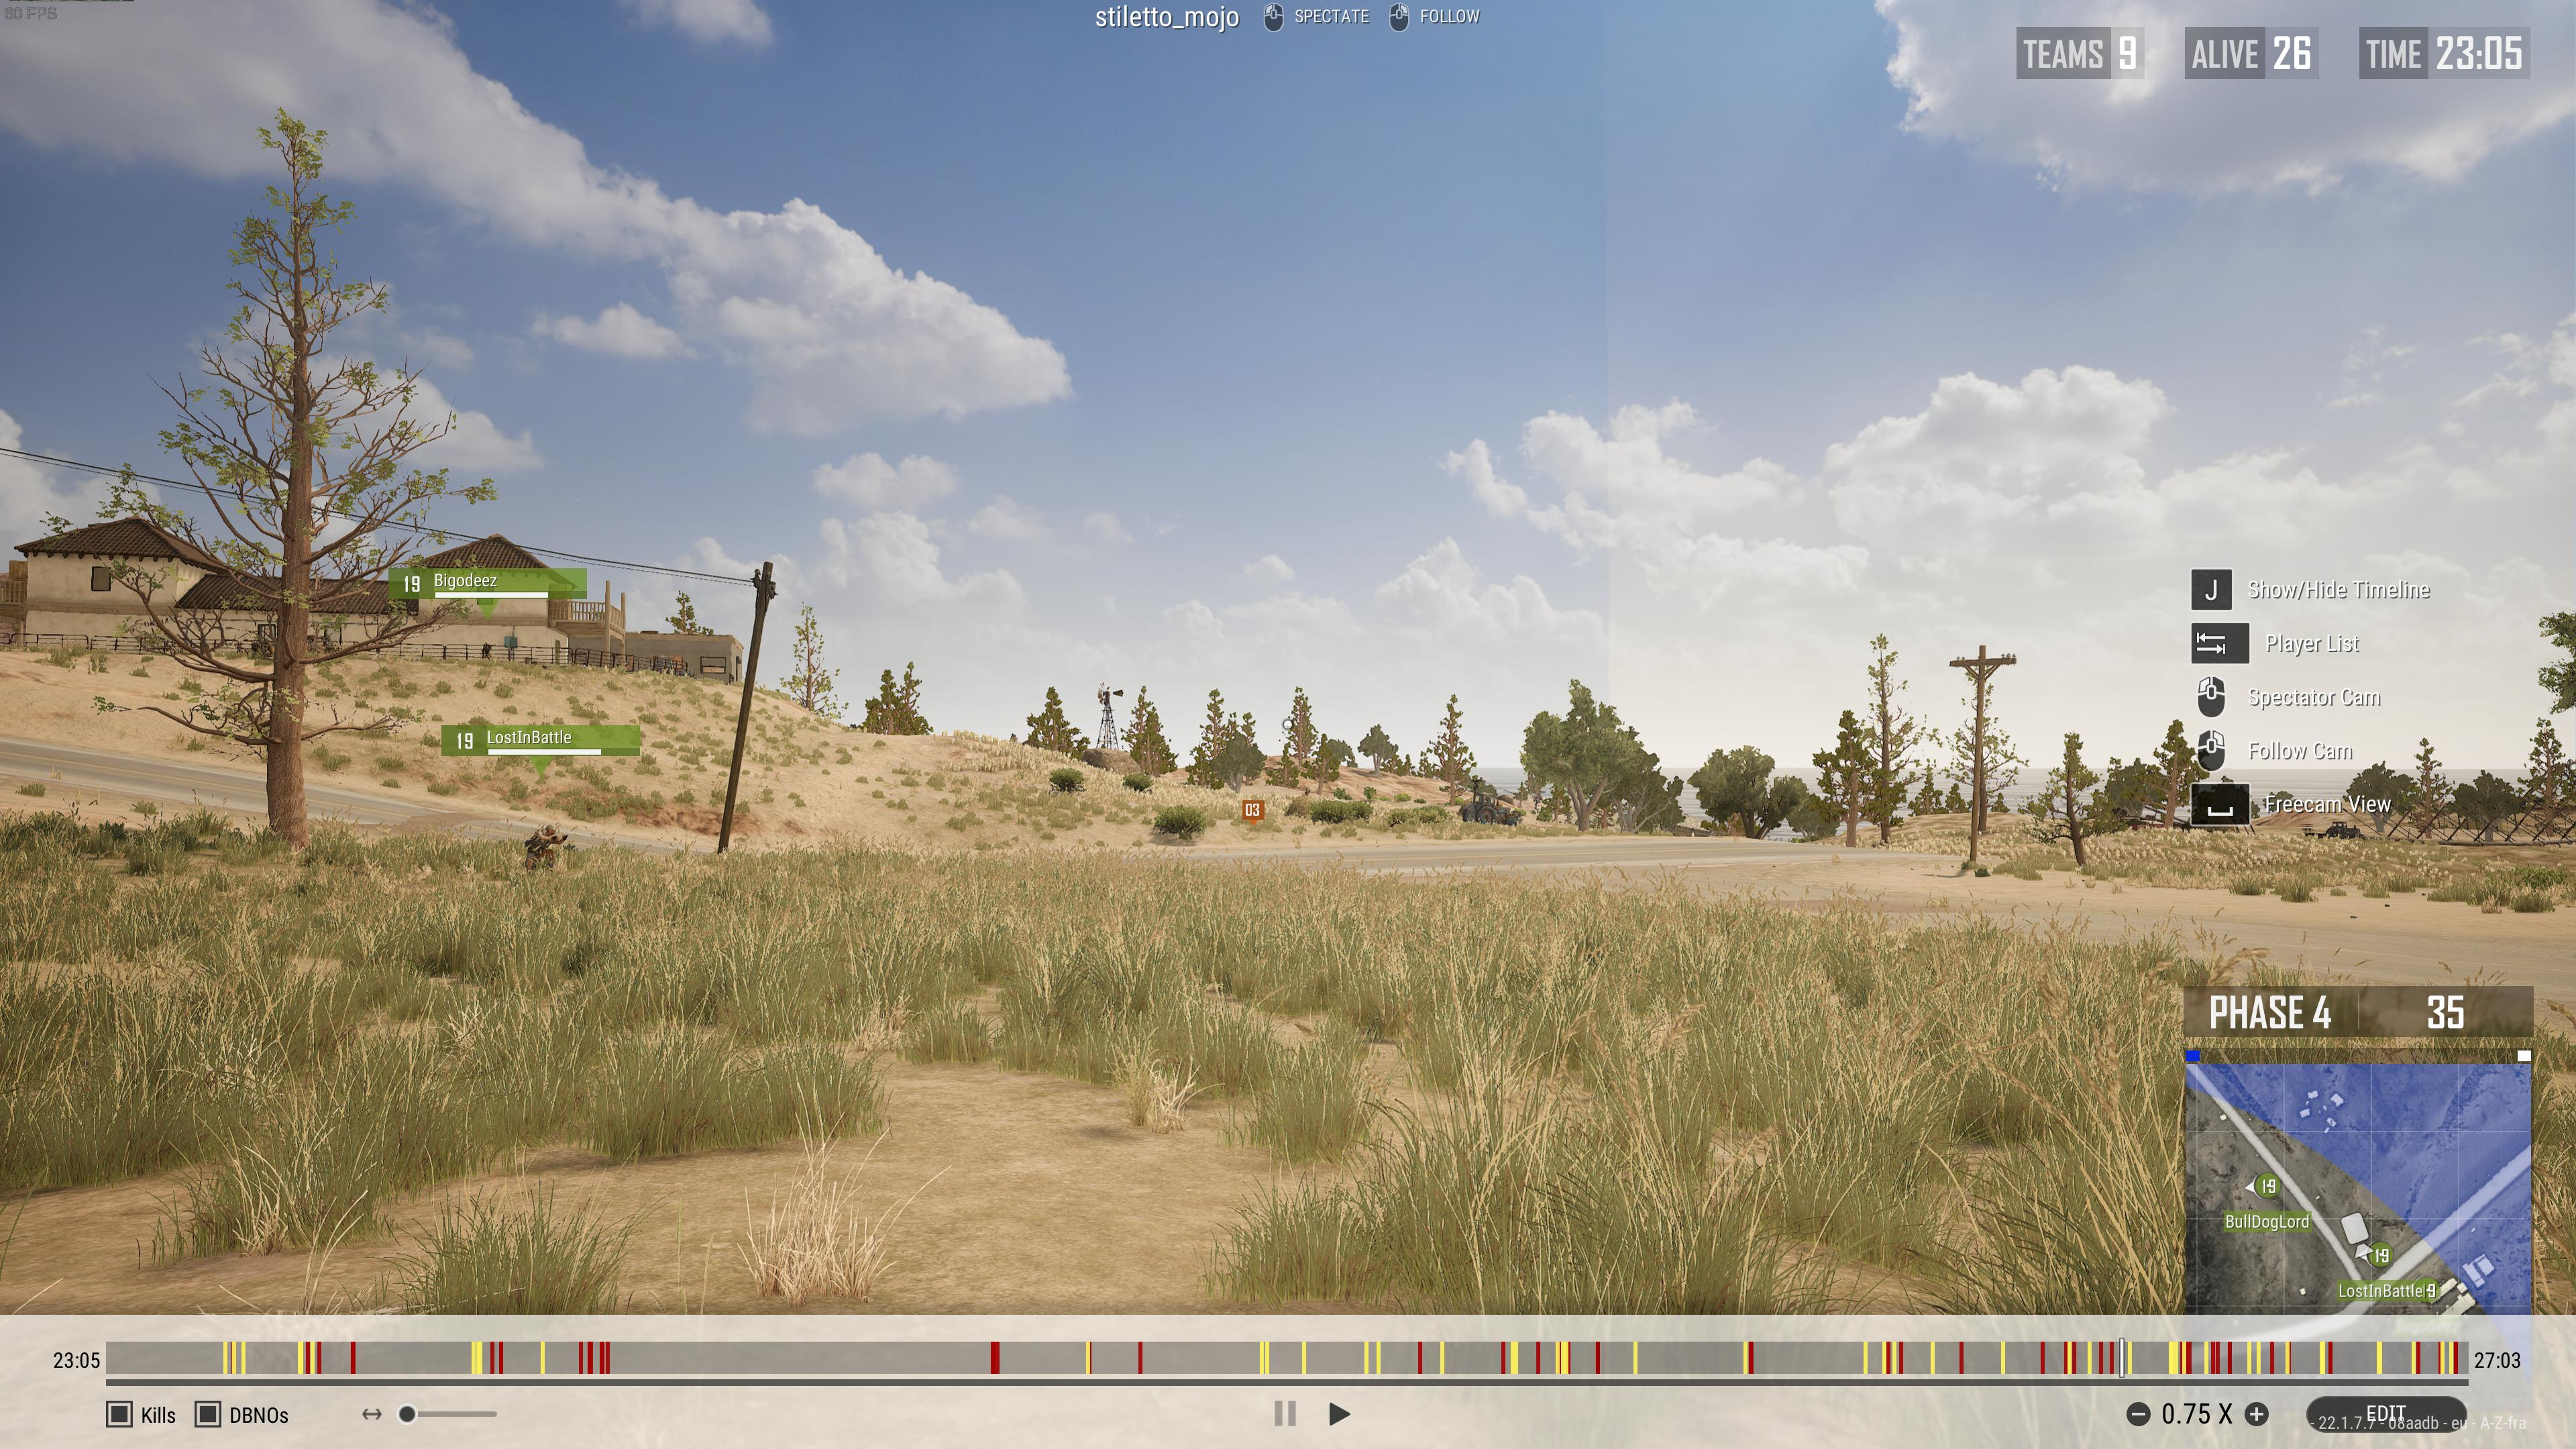enemy: (524, 823, 568, 867)
enemy_head: (545, 824, 556, 835)
